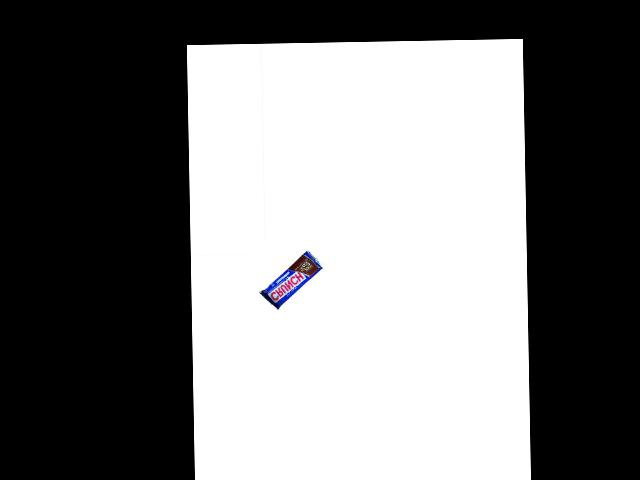chocolate: (257, 249, 324, 310)
